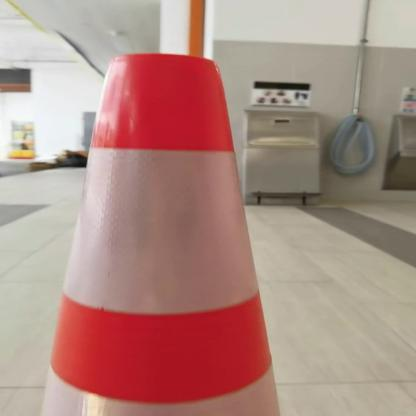cone: (35, 47, 284, 416)
